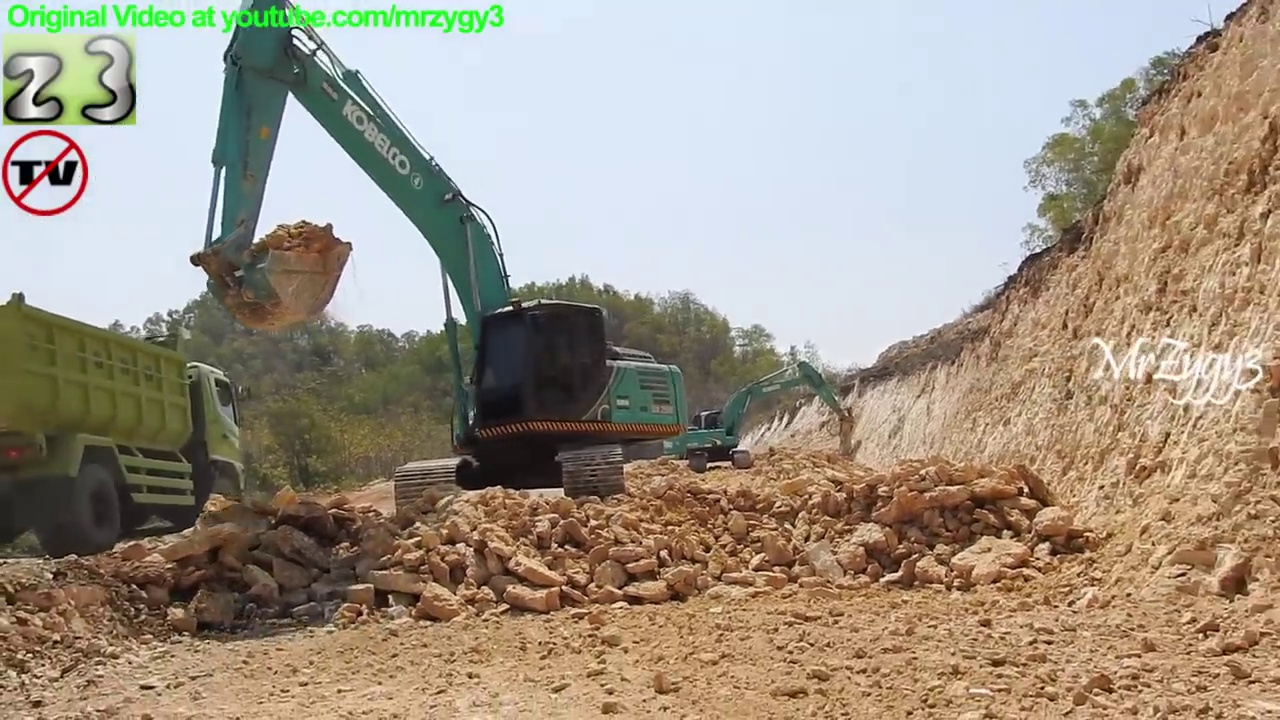excavator: (184, 1, 693, 530), (669, 355, 860, 474)
truck: (1, 286, 260, 569)
